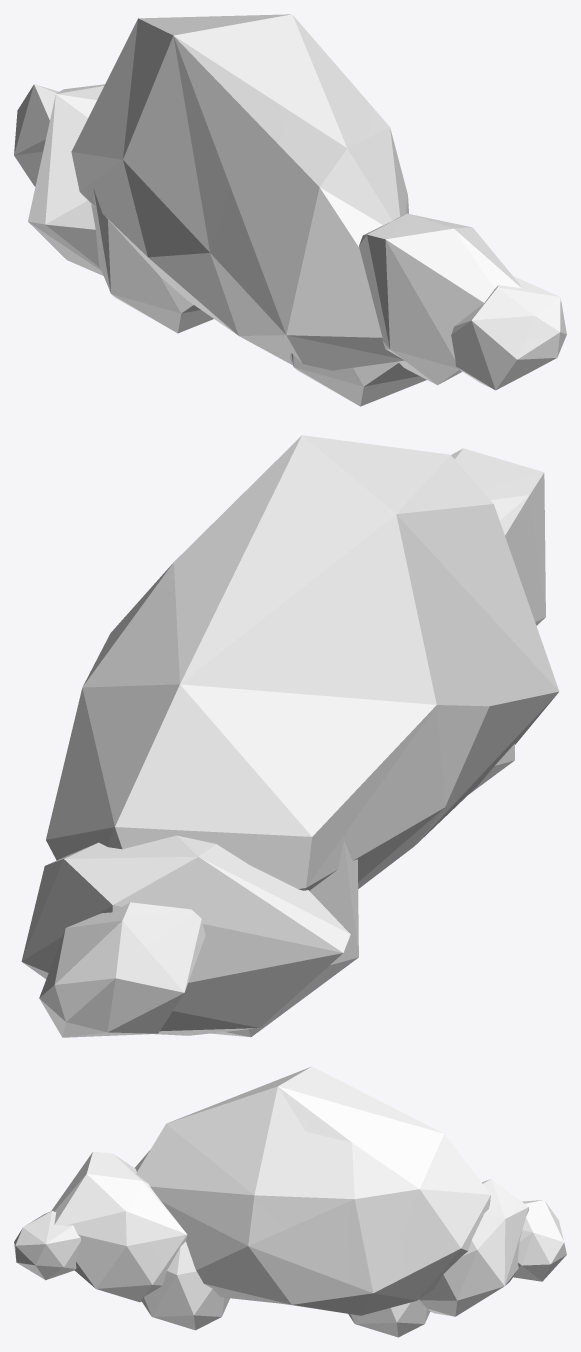
The model's file is back_cloud.62c2ca58.glb.
3 renders of one model, top to bottom at view 1: azimuth 30°, elevation 25°; view 2: azimuth 150°, elevation 25°; view 3: azimuth 270°, elevation 25°, orthographic. The views are drawn at different scales.
Parts seen in each view (by area): view 1: cloud; view 2: cloud; view 3: cloud.
Part boxes in pixels (box(x1,y1,x2,y2)): cloud: box(14, 14, 566, 406); cloud: box(21, 435, 559, 1037); cloud: box(14, 1066, 566, 1337).
Size of the model in its own units: 2.83 by 4.07 by 8.05.
Materials: 1 (1 with a texture image).
